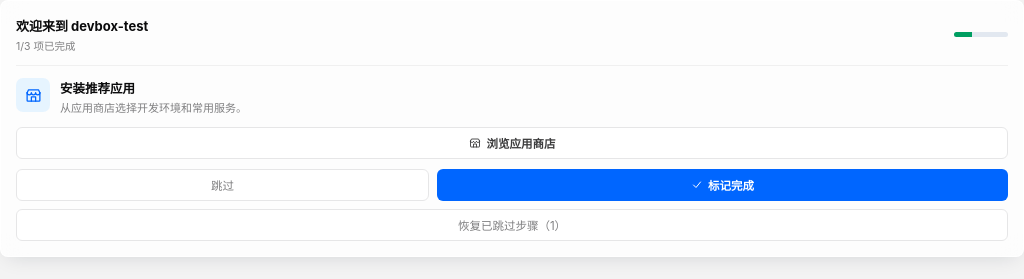
WelcomeWidget persistence flow › can restore a skipped step while another step is pending
The image size is (1024, 279).
Expected: the text "安装推荐应用" is shown, [60, 81, 135, 96]
Step 1. Click the button "恢复已跳过步骤（1）" → (512, 225), box [16, 209, 1008, 241]
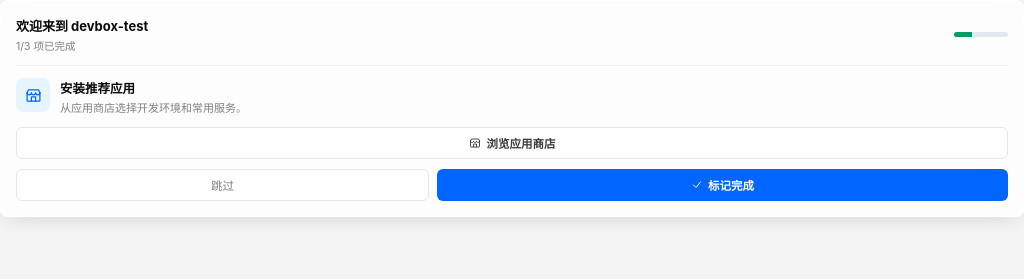
Expected: the text "安装推荐应用" is shown, [60, 81, 135, 96]
Now the button "恢复已跳过步骤" is gone
